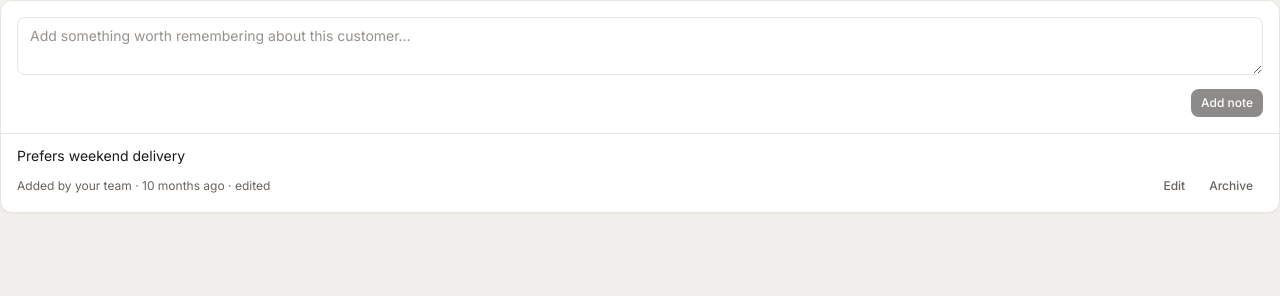
Test: CustomerMemory › marks an edited note and saves an edit
expect the text "· edited" is shown: met, box [225,178,270,193]
Click the button "Edit". click: (1174, 186)
box: [1153,172,1195,200]
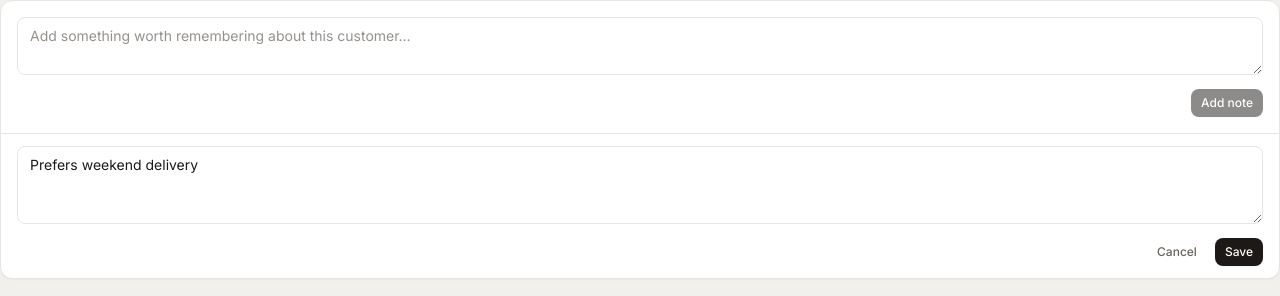
Replace the text in the text box named "Edit memory" with "Prefers Saturday delivery". click: (640, 185)
box: [17,146,1263,224]
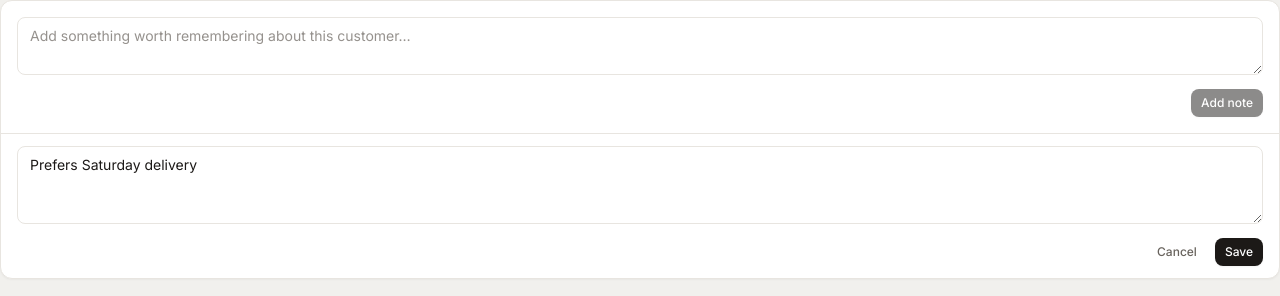
Click the button "Save". click: (1239, 252)
box: [1215,238,1263,266]
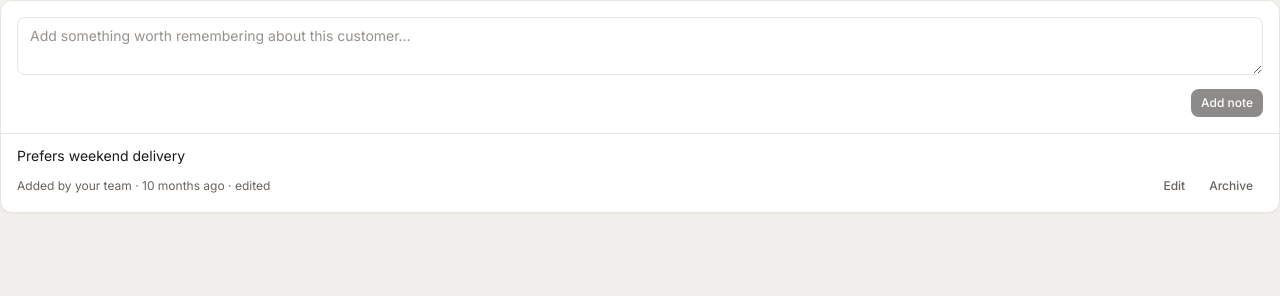
expect the button "Edit" is shown: met, box [1153,172,1195,200]
